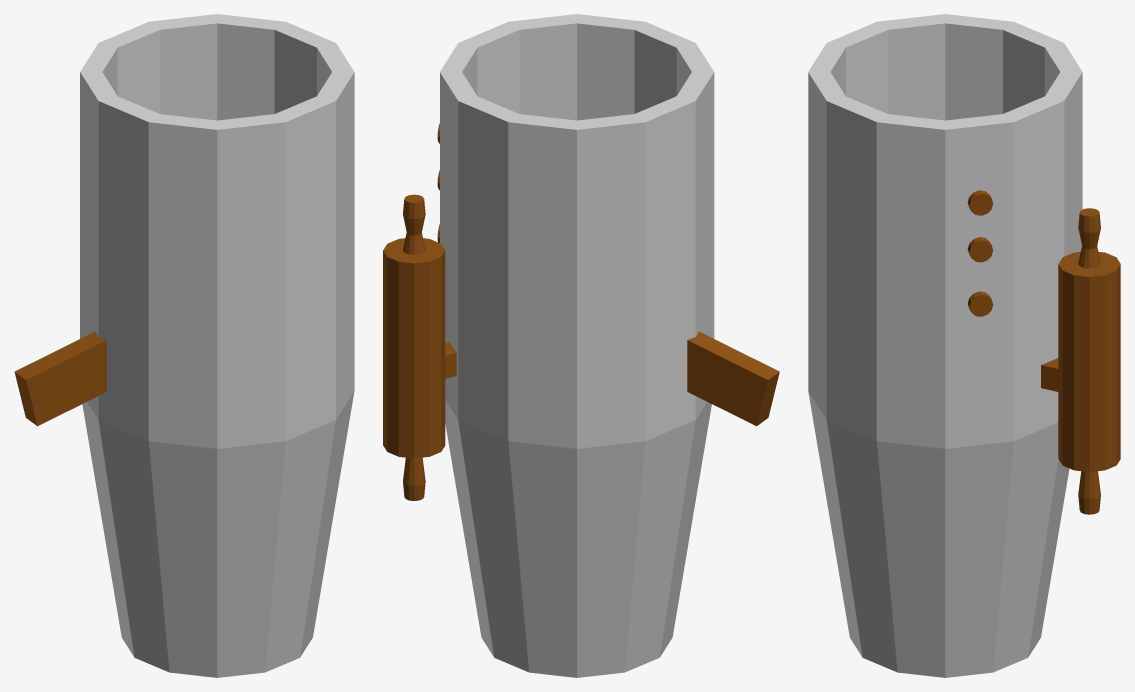
File: cakeLauncher.fbx
3 renders of one model, left to right at view 1: azimuth 30°, elevation 25°; view 2: azimuth 150°, elevation 25°; view 3: azimuth 270°, elevation 25°, orthographic.
Visible parts, largest first — view 1: Cylinder; view 2: Cylinder; view 3: Cylinder.
Boxes of the visible parts, bbox=[...] form: Cylinder: bbox=[14, 14, 354, 677]; Cylinder: bbox=[383, 14, 779, 677]; Cylinder: bbox=[808, 14, 1120, 677].
Bounding box in the file's own units: 184 × 313 × 157.
